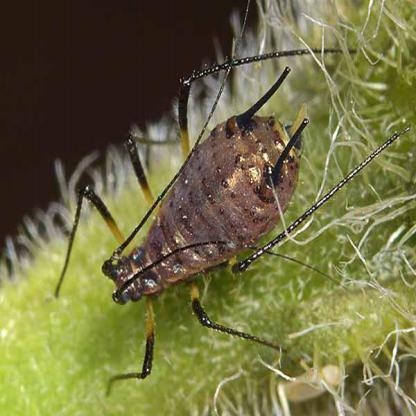uroleucon compositae: (103, 68, 308, 378)
